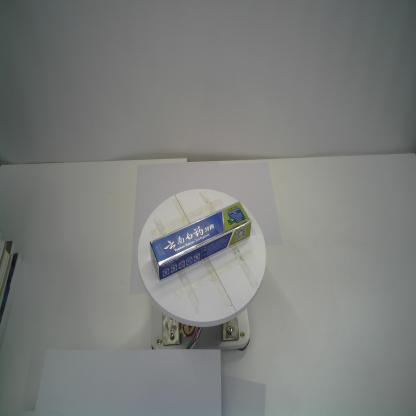Personal Hygiene: (148, 201, 251, 282)
